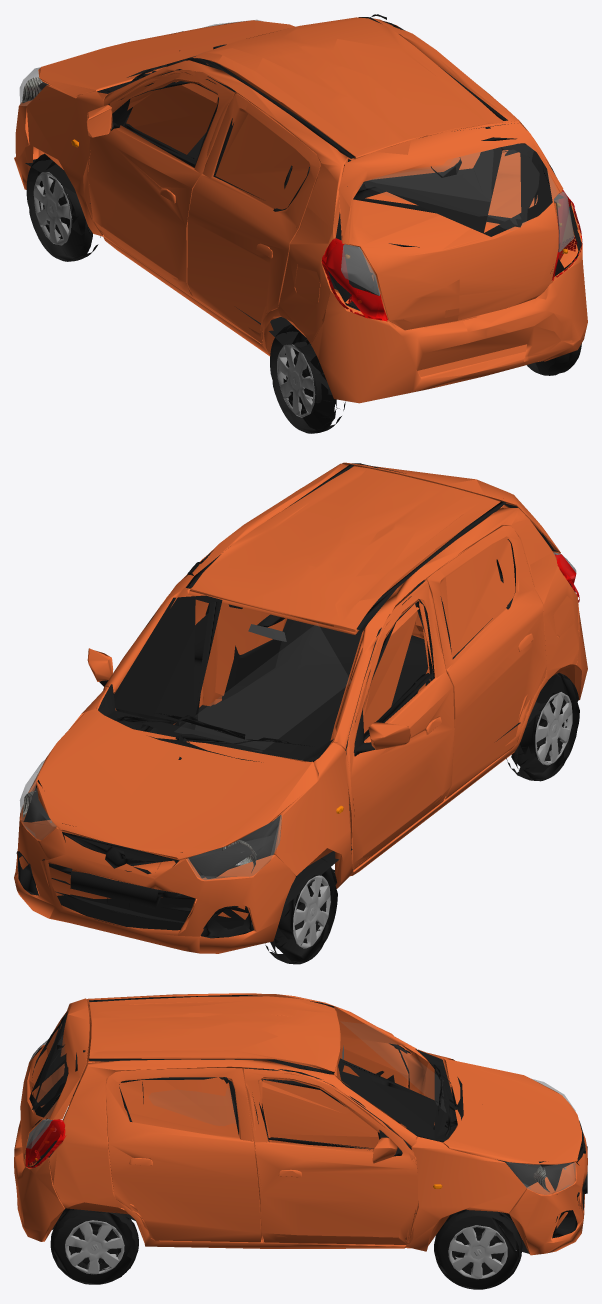
File: car_alto.glb
3 views of the same model, one above another, from view 1: azimuth 30°, elevation 25°; view 2: azimuth 150°, elevation 25°; view 3: azimuth 270°, elevation 25° (orthographic). The views are drawn at different scales.
Visible parts, largest first — view 1: primary, roda.0, glass, roda.3, roda.2, glass.002, glass.001, glass.003; view 2: primary, roda.3, roda.0, glass.003, roda.2; view 3: primary, roda.0, roda.3, roda.2, glass.003, glass.002, glass, glass.001.
Part boxes in pixels (<box>): primary: <box>14,17,587,403</box>; roda.0: <box>26,14,581,433</box>; glass: <box>192,57,557,226</box>; roda.3: <box>25,82,560,415</box>; roda.2: <box>33,172,315,417</box>; glass.002: <box>321,190,582,321</box>; glass.001: <box>341,191,574,295</box>; glass.003: <box>19,19,262,105</box>; primary: <box>14,462,587,953</box>; roda.3: <box>22,463,571,944</box>; roda.0: <box>16,464,579,964</box>; glass.003: <box>20,760,281,879</box>; roda.2: <box>293,692,572,948</box>; primary: <box>14,993,587,1255</box>; roda.0: <box>28,995,587,1289</box>; roda.3: <box>24,1018,568,1275</box>; roda.2: <box>65,1220,507,1279</box>; glass.003: <box>507,1079,575,1194</box>; glass.002: <box>25,1119,66,1168</box>; glass: <box>32,1016,65,1117</box>; glass.001: <box>26,1039,566,1169</box>.
Bounding box in the file's own units: 1.83 × 1.49 × 3.55.
15 materials, 14 textured.
